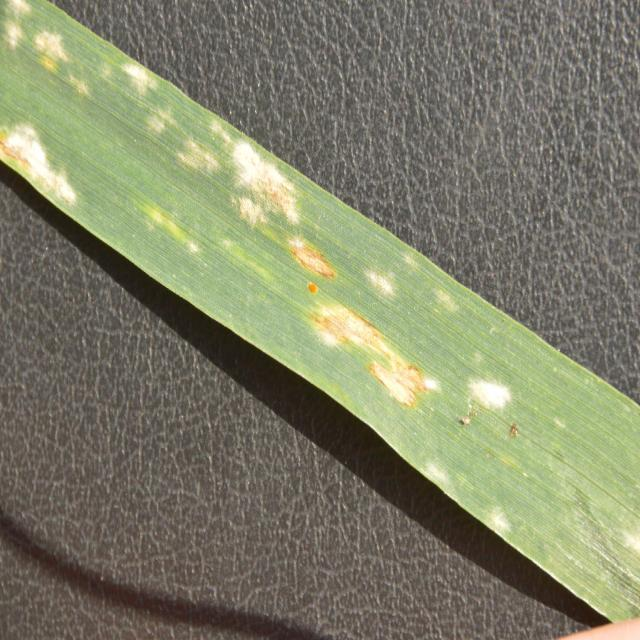wheat-powdery-mildew: (179, 114, 347, 292), (302, 303, 434, 422), (0, 1, 90, 102), (0, 118, 88, 215), (459, 373, 534, 430), (113, 50, 169, 102), (368, 270, 408, 310)
